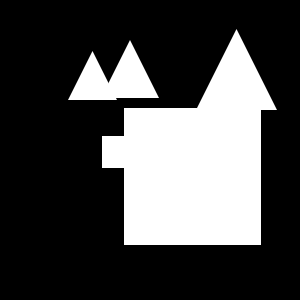circle: (124, 108, 261, 245), (102, 136, 134, 168)
triangle: (196, 29, 277, 110), (101, 40, 159, 98), (68, 51, 117, 100)
